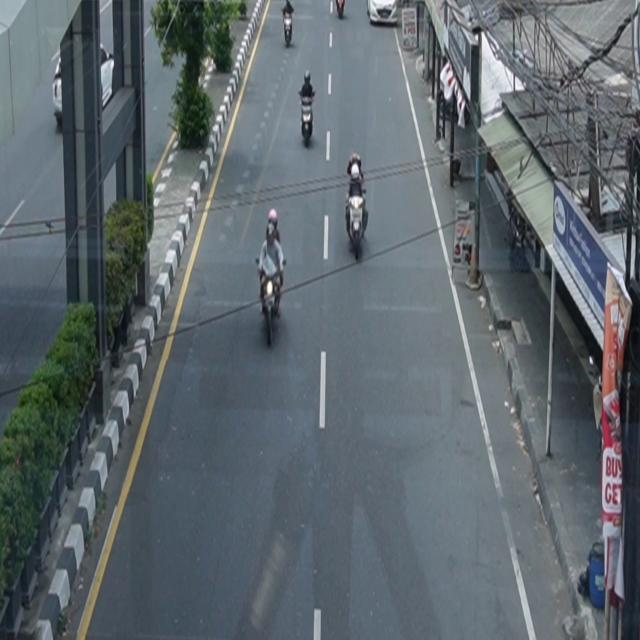car: (53, 42, 116, 127), (367, 1, 398, 26)
